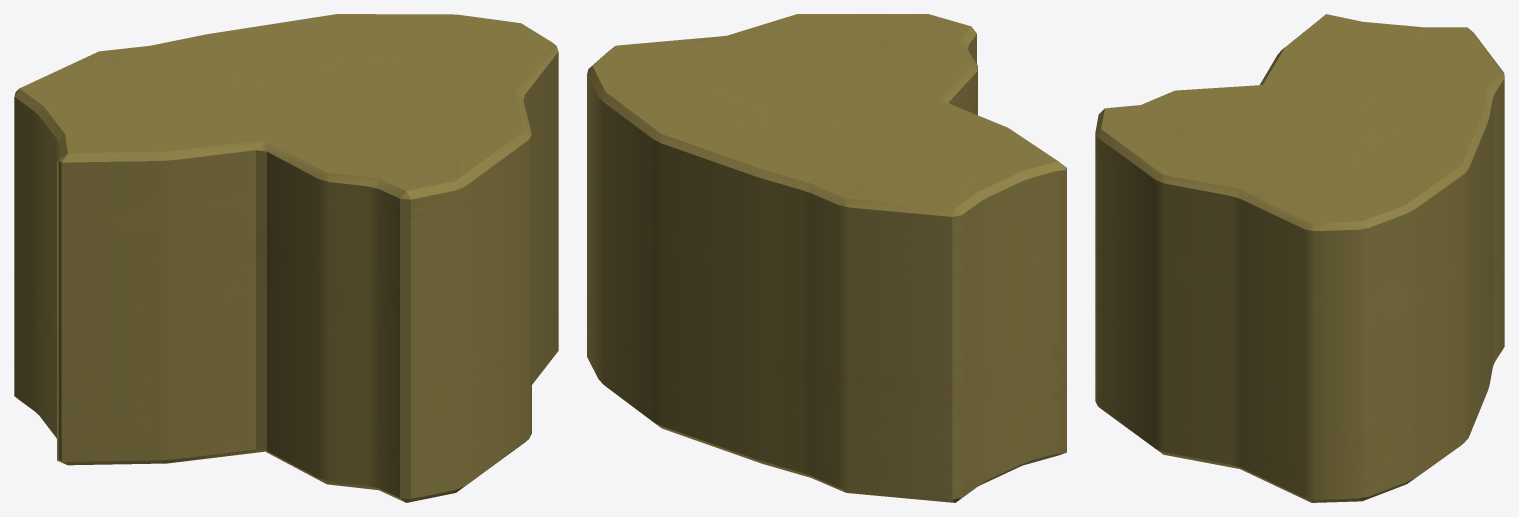
The model's file is lithuania.DAE.
The picture shows the model from 3 angles, left to right: view 1: azimuth 30°, elevation 25°; view 2: azimuth 150°, elevation 25°; view 3: azimuth 270°, elevation 25°; orthographic projection. The views are drawn at different scales.
Visible parts, largest first — view 1: Lithuania; view 2: Lithuania; view 3: Lithuania.
Boxes of the visible parts, left/top/right/bottom form: Lithuania: left=14, top=14, right=558, bottom=502; Lithuania: left=587, top=14, right=1066, bottom=502; Lithuania: left=1095, top=14, right=1504, bottom=502.
Size of the model in its own units: 41.34 by 33.13 by 25.
Materials: 1 (1 with a texture image).
